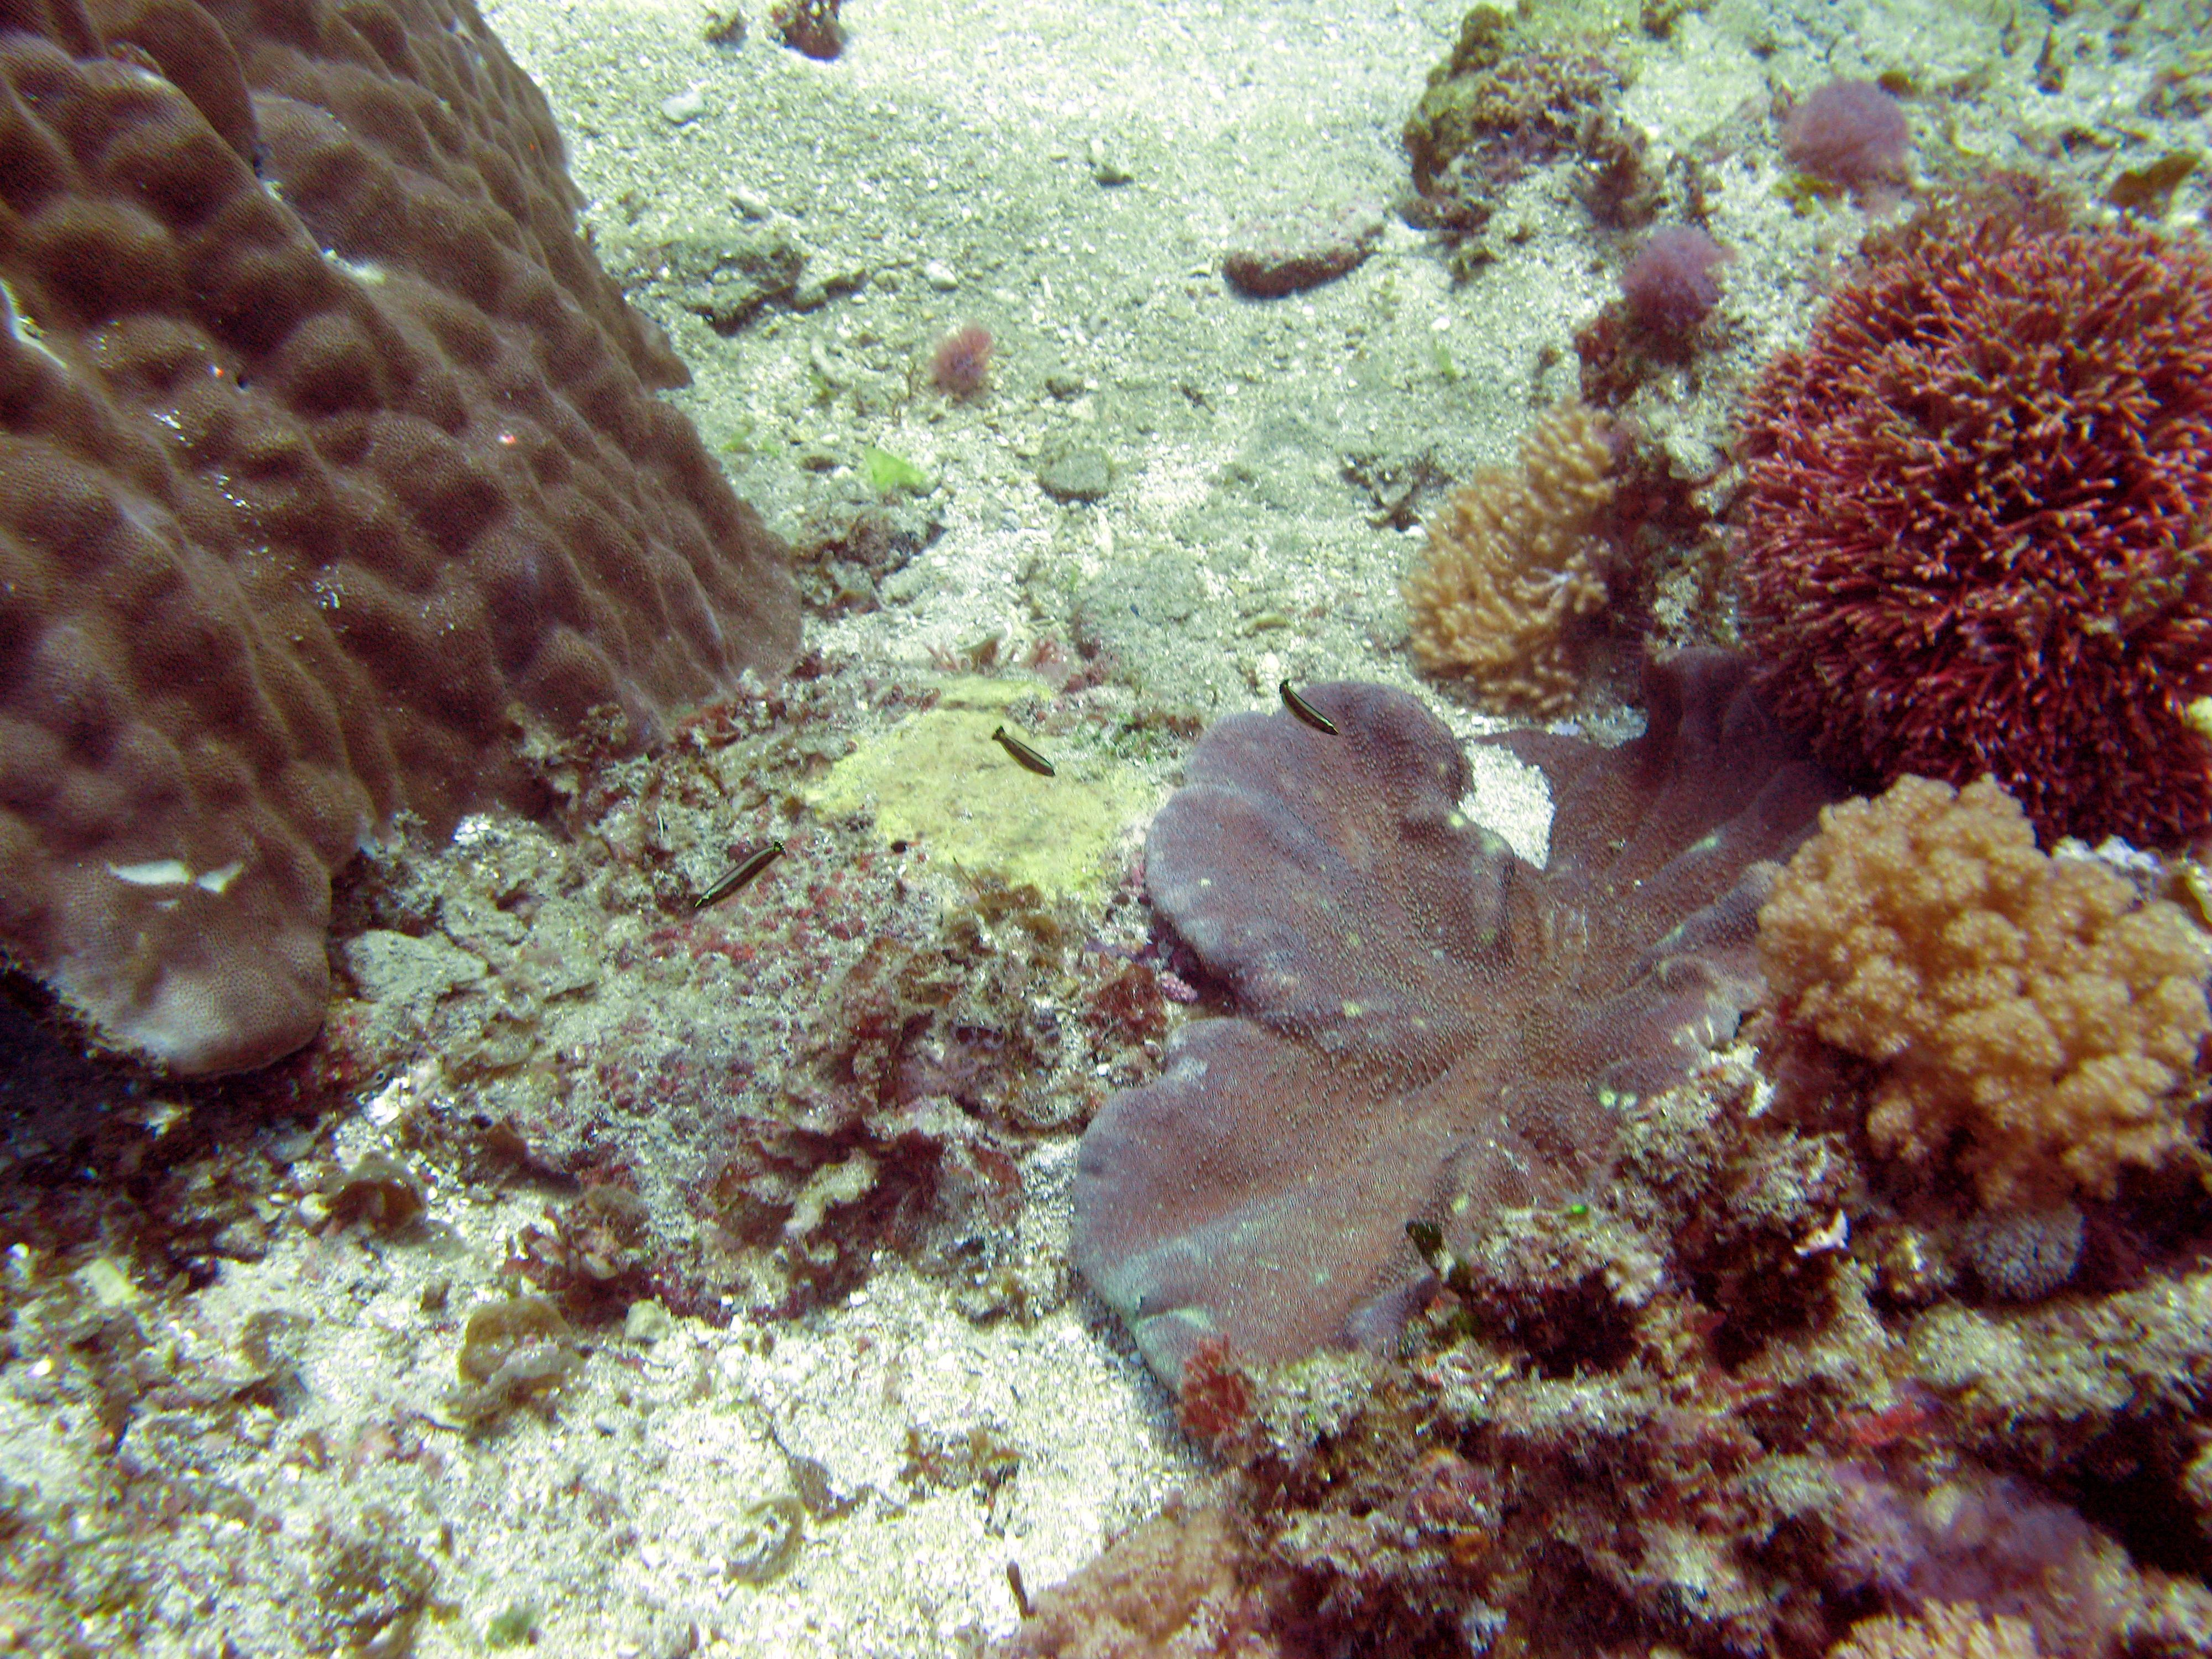Fish: (676, 830, 789, 938), (1256, 641, 1348, 753), (993, 709, 1059, 798)
